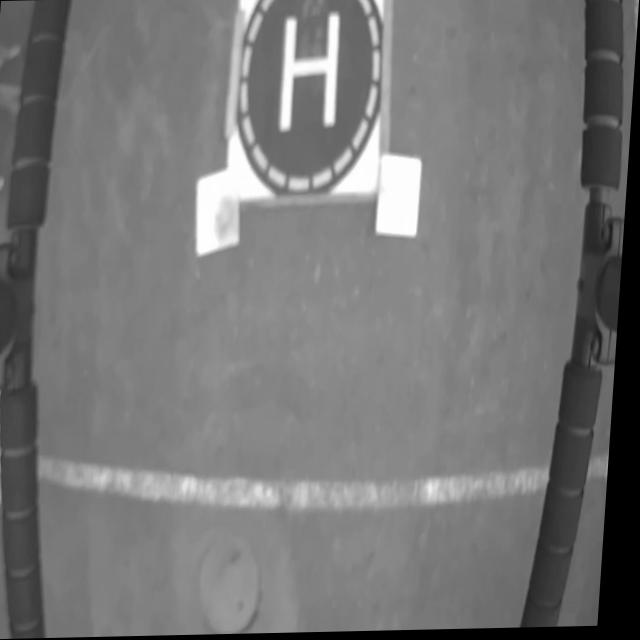Helipad: (279, 12, 341, 134)
